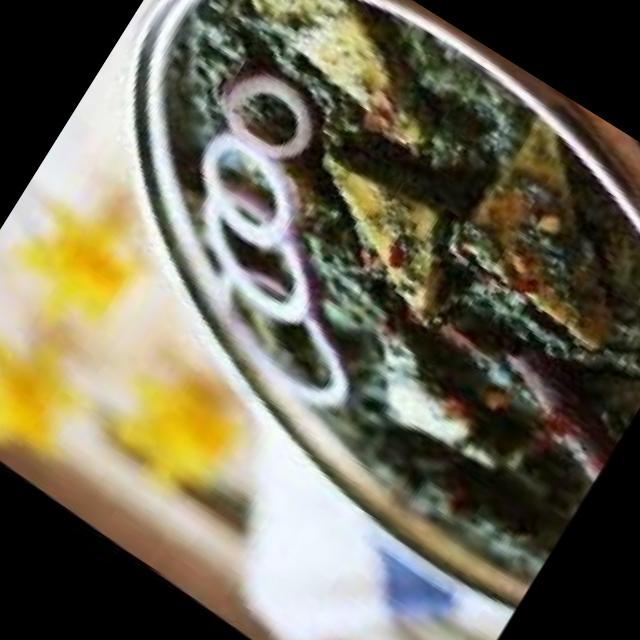palak_paneer: (19, 0, 640, 595)
